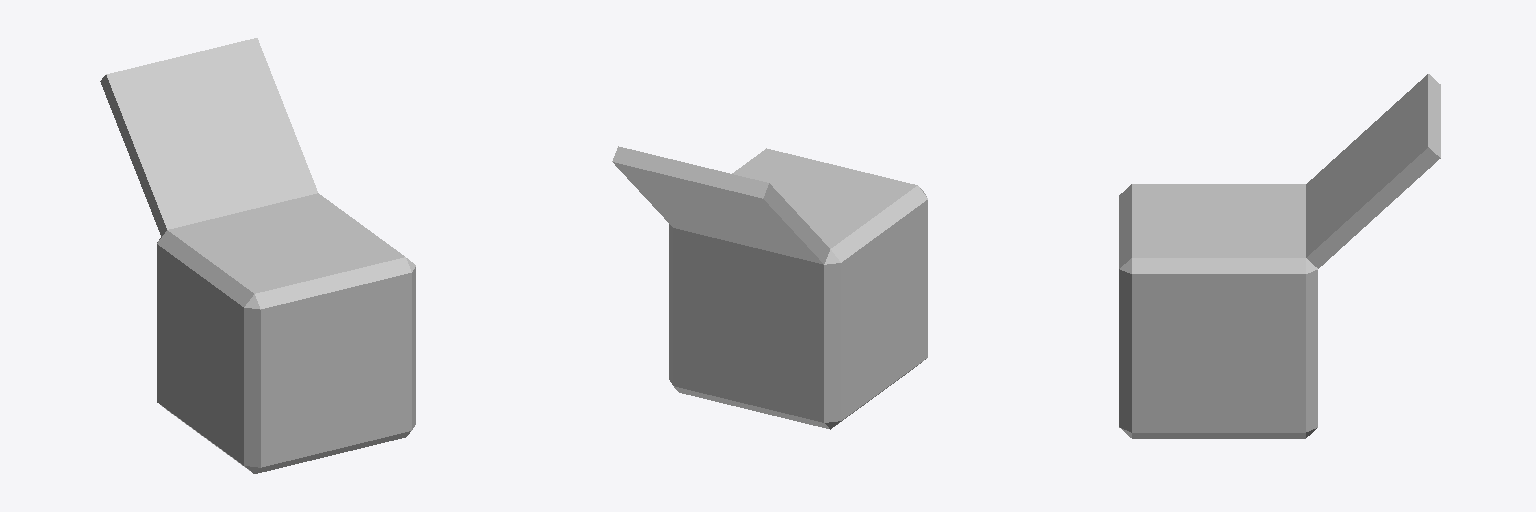
The model's file is things.obj.
3 renders of one model, left to right at view 1: azimuth 30°, elevation 25°; view 2: azimuth 150°, elevation 25°; view 3: azimuth 270°, elevation 25°, orthographic.
Parts seen in each view (by area): view 1: thing; view 2: thing; view 3: thing.
Boxes of the visible parts, <box> form: thing: <box>100,38,415,473</box>; thing: <box>612,146,927,429</box>; thing: <box>1119,74,1440,438</box>.
Bounding box in the file's own units: 2 × 3.23 × 3.23.